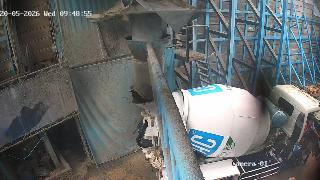cement_mixer_truck: (131, 84, 320, 180)
swing_chute: (124, 35, 173, 102)
